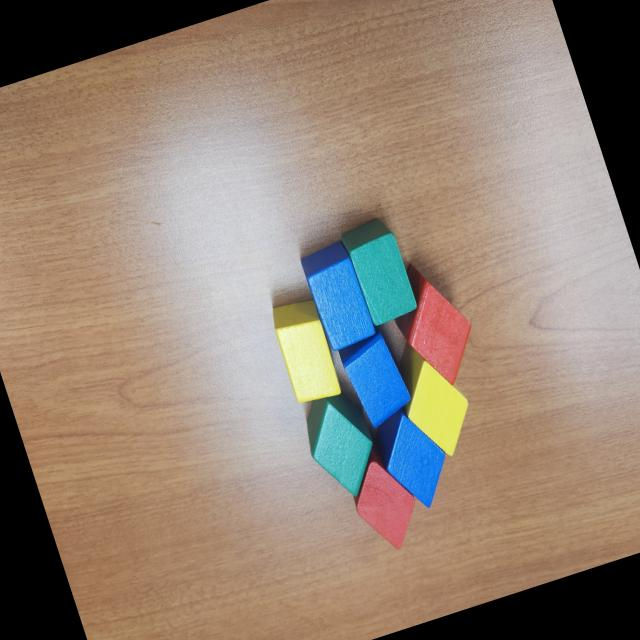blue: (368, 400, 460, 518), (330, 328, 419, 442), (298, 238, 378, 354)
green: (294, 384, 390, 508), (339, 214, 421, 329)
red: (380, 249, 487, 396), (340, 439, 428, 557)
yellow: (384, 328, 484, 466), (266, 295, 344, 406)
